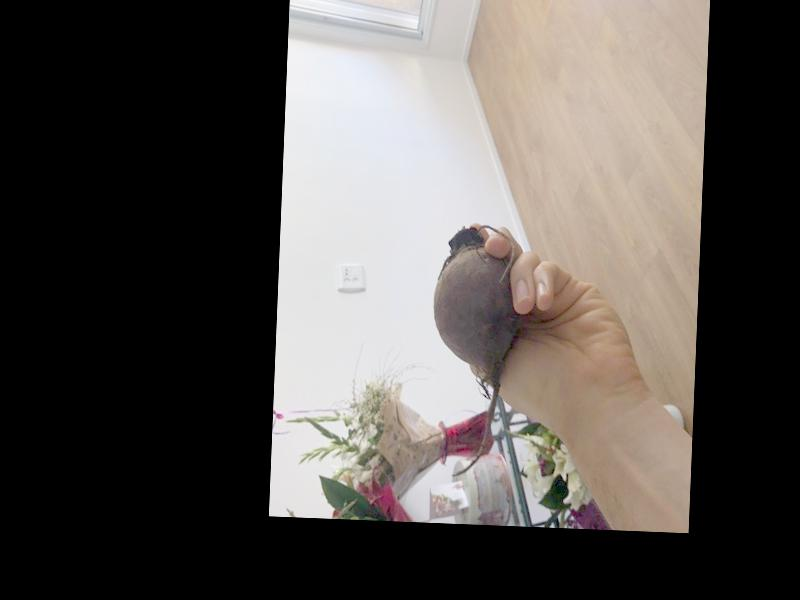Beet: (427, 223, 523, 478)
